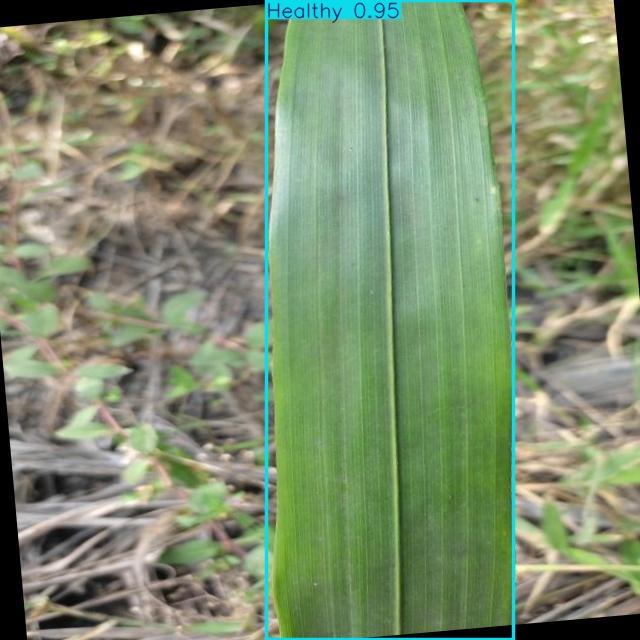Healthy: (266, 0, 514, 640)
